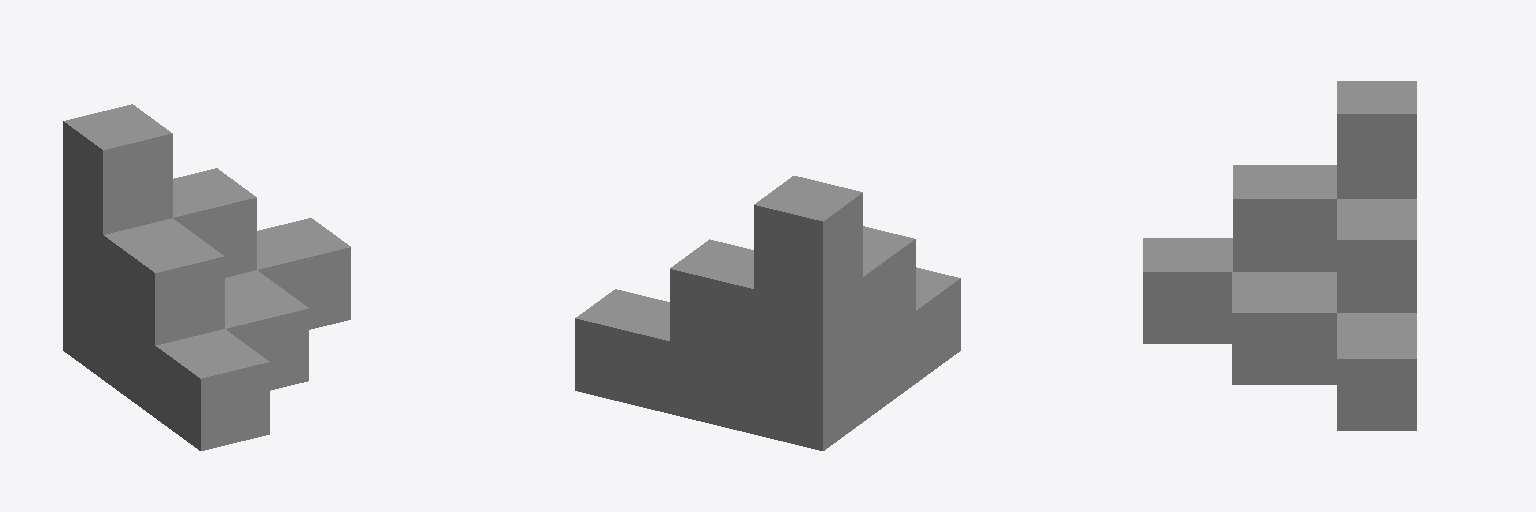
Rendered from blocks.obj.
3 renders of one model, left to right at view 1: azimuth 30°, elevation 25°; view 2: azimuth 150°, elevation 25°; view 3: azimuth 270°, elevation 25°, orthographic.
Visible parts, largest first — view 1: Cube; view 2: Cube; view 3: Cube.
Boxes of the visible parts, x1,y1,x2,y2 form: Cube: [63, 104, 350, 450]; Cube: [575, 176, 960, 450]; Cube: [1143, 81, 1416, 430].
Bounding box in the file's own units: 7.15 × 6.33 × 6.86.